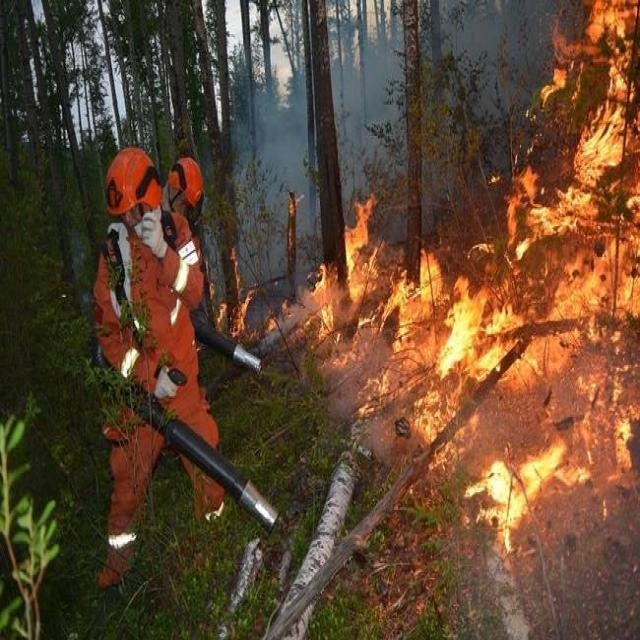Fire: (268, 0, 640, 555)
